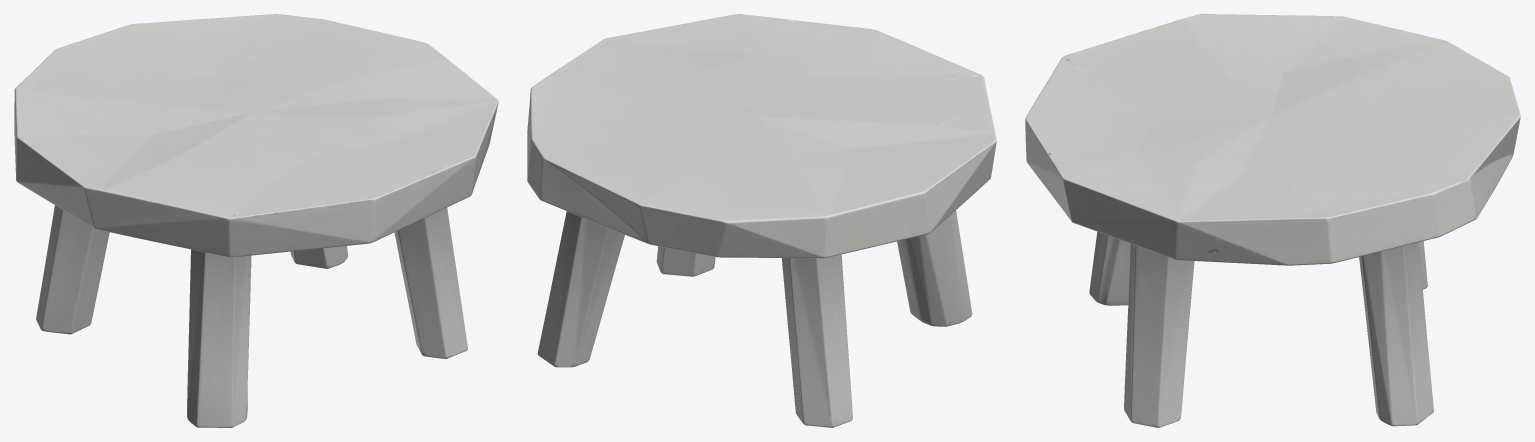
The model's file is table.fbx.
The picture shows the model from 3 angles, left to right: view 1: azimuth 30°, elevation 25°; view 2: azimuth 150°, elevation 25°; view 3: azimuth 270°, elevation 25°; orthographic projection. The views are drawn at different scales.
Parts seen in each view (by area): view 1: node_0; view 2: node_0; view 3: node_0.
Boxes of the visible parts, x1=… form: node_0: x1=14, y1=14, x2=498, y2=427; node_0: x1=527, y1=14, x2=996, y2=427; node_0: x1=1025, y1=14, x2=1520, y2=427.
Size of the model in its own units: 102 by 54 by 104.
